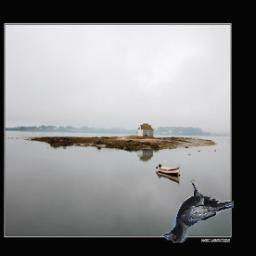Crow: (163, 180, 235, 244)
